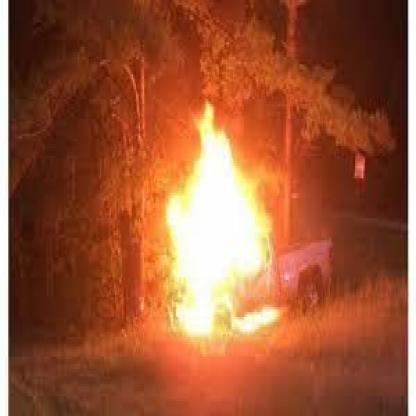fire: (154, 106, 286, 340)
